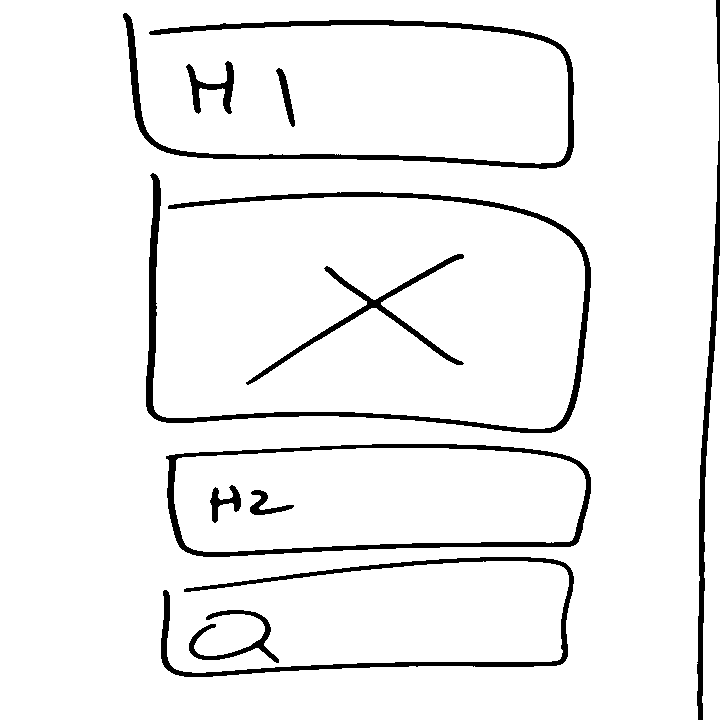heading1: (119, 8, 578, 171)
heading2: (163, 439, 593, 561)
picture: (143, 169, 591, 435)
search bar: (155, 554, 580, 681)
